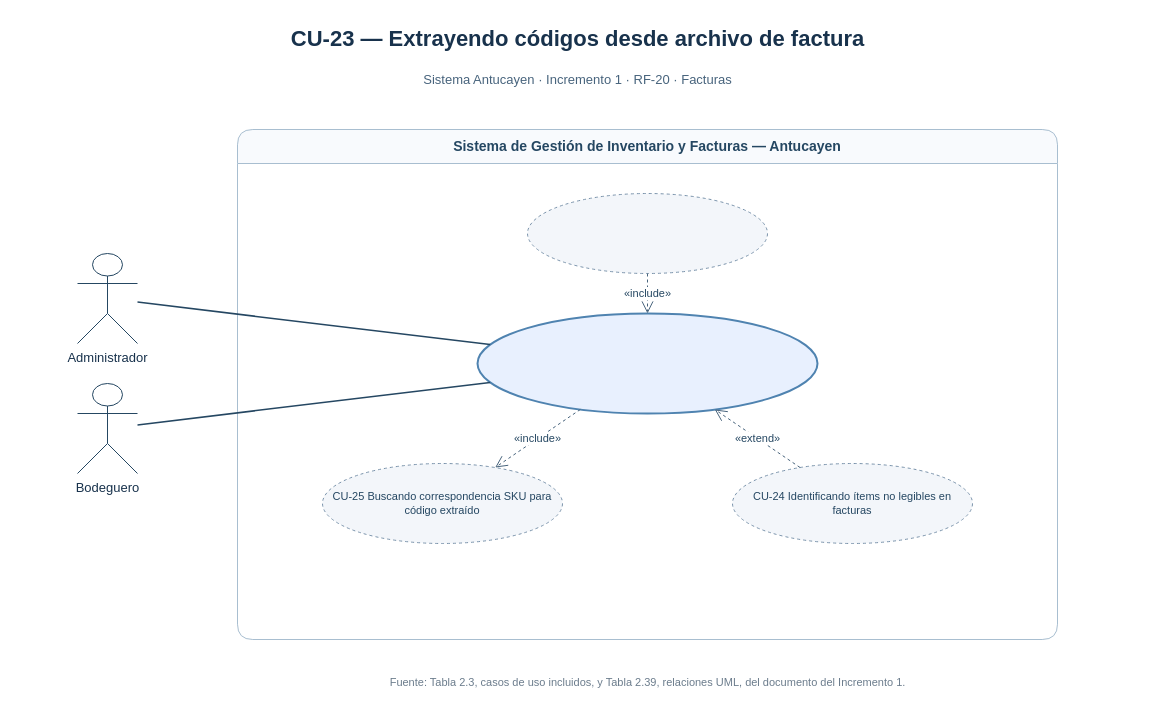
This 1154x712 diagram has some shape labels left out. Each missing label, with the centre of its shape:
"CU-18 Cargando ítems mediante archivo digital" belongs at point (647, 233).
"CU-23 Extrayendo códigos desde archivo de factura" belongs at point (647, 363).
